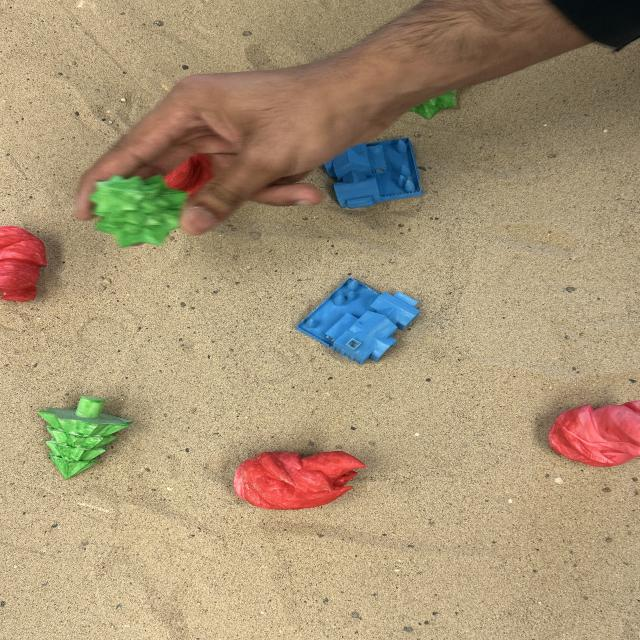fire: (231, 448, 368, 512), (546, 399, 638, 468), (0, 224, 49, 302), (159, 152, 217, 182)
house: (294, 276, 422, 365), (322, 136, 424, 210)
tree: (36, 394, 134, 480), (93, 175, 184, 246)
